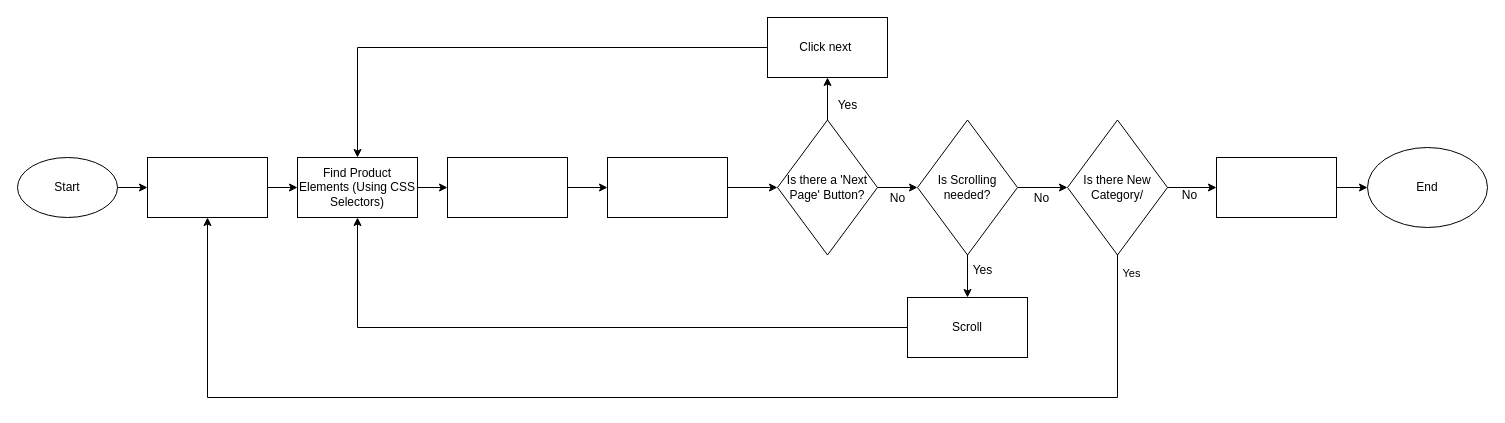
Some shapes in this 1505 by 423 pixel diagram are drawn without their labels. The shapes that lost their labels are listed below. From the top down, each one's centre as x and y in pixels, then its label:
point 207,187: Load a New Category Page (Using Selenium)
point 507,187: Extract Product Details (Name, Price, Unit, Discount)
point 667,187: Store Data
point 1276,187: Store Final Data
